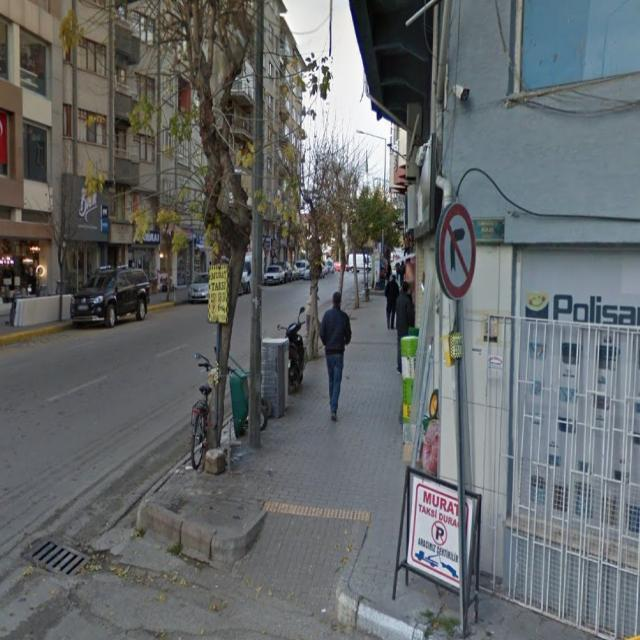sagadonulmez: (440, 203, 476, 302)
